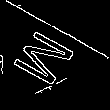M_SE: (0, 23, 76, 89)
